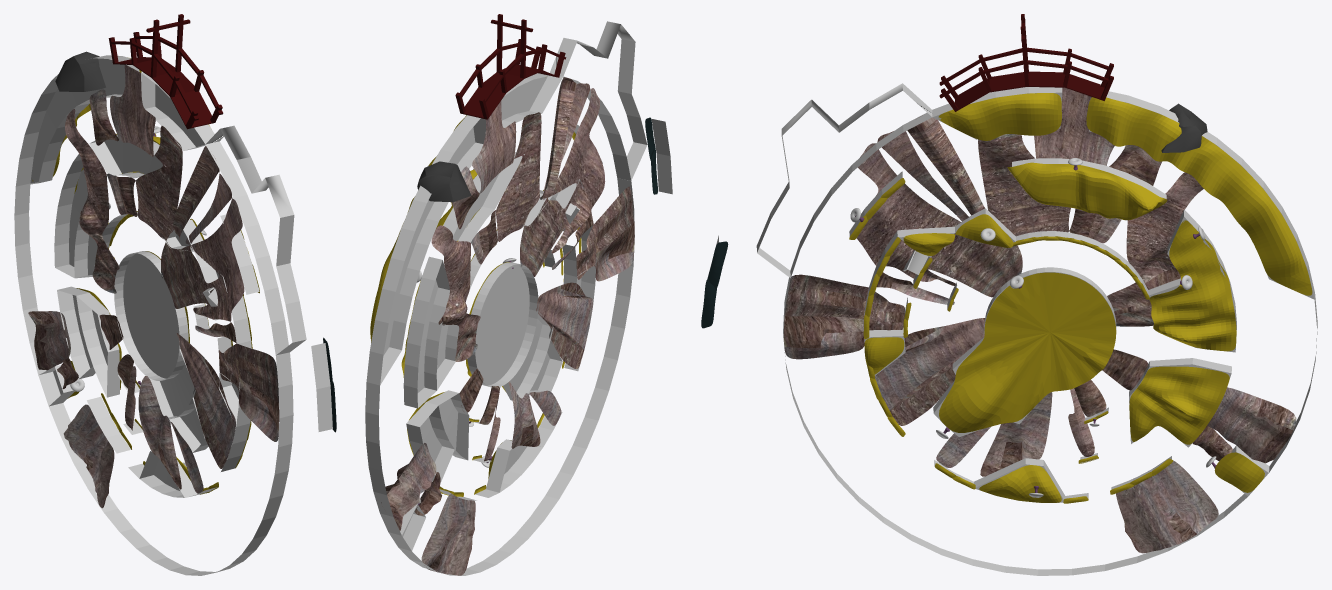
The model's file is path.FBX.
The picture shows the model from 3 angles, left to right: view 1: azimuth 30°, elevation 25°; view 2: azimuth 150°, elevation 25°; view 3: azimuth 270°, elevation 25°; orthographic projection. The views are drawn at different scales.
Parts seen in each view (by area): view 1: Path, pathDetail02, bridge, Roca005, pathDetail01; view 2: Path, pathDetail02, bridge, Roca005, pathDetail01; view 3: pathDetail02, pathDetail01, Path, bridge, Roca005.
Boxes of the visible parts, <box> form: Path: <box>14,55,332,575</box>; pathDetail02: <box>28,64,279,508</box>; bridge: <box>108,14,223,129</box>; Roca005: <box>55,51,105,91</box>; pathDetail01: <box>32,58,209,480</box>; Path: <box>365,21,672,575</box>; pathDetail02: <box>381,77,634,575</box>; bridge: <box>455,14,566,119</box>; Roca005: <box>417,161,471,202</box>; pathDetail01: <box>370,115,563,478</box>; pathDetail02: <box>783,87,1296,553</box>; pathDetail01: <box>864,93,1312,502</box>; Path: <box>708,83,1317,575</box>; bridge: <box>939,14,1113,111</box>; Roca005: <box>1161,103,1207,152</box>.
Bounding box in the file's own units: 9.98 × 89.75 × 90.77.
